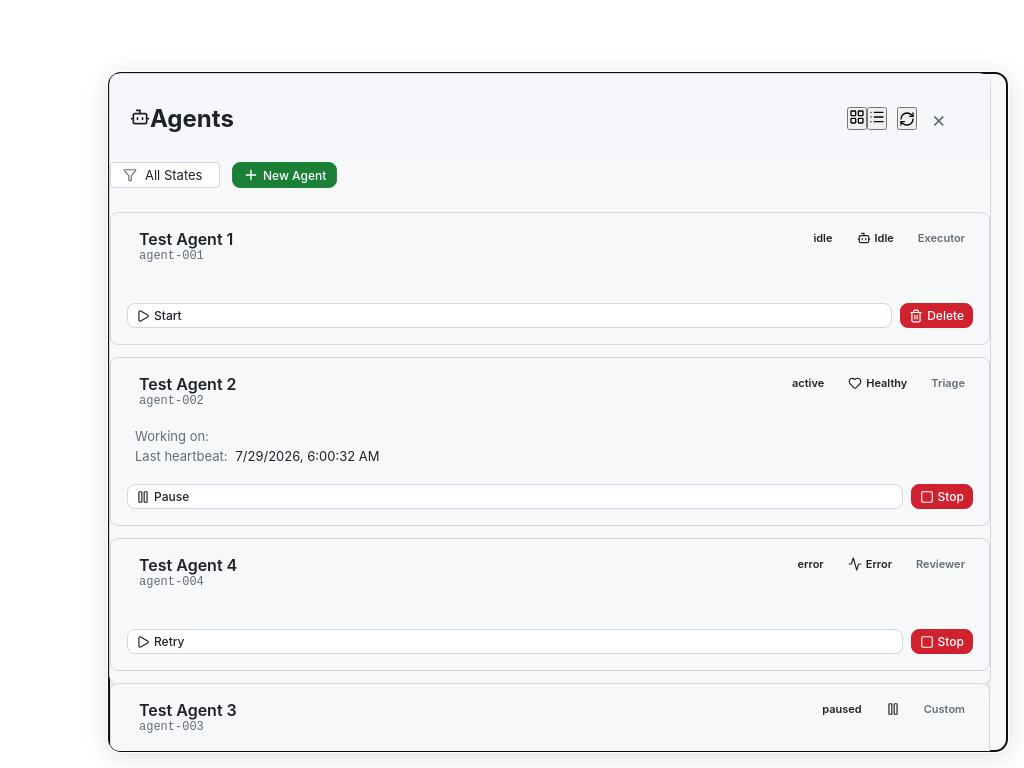
Test case: AgentListModal › agent creation › shows create form when clicking New Agent button
Step 1. Click the button "New Agent" → (285, 175), box [232,162,337,188]
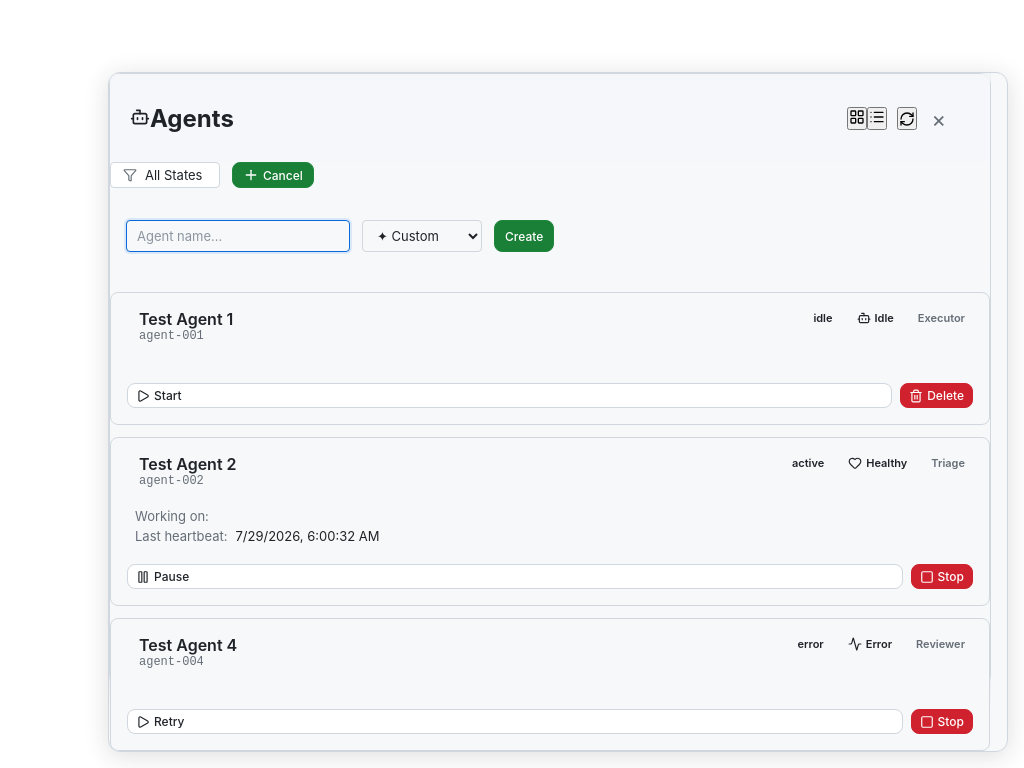
Expected: the field with placeholder "Agent name..." is shown, [126,220,350,252]
